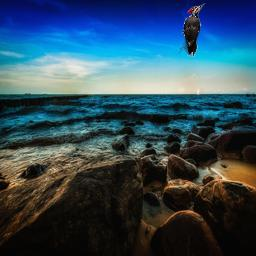Woodpecker: (179, 3, 207, 57)
